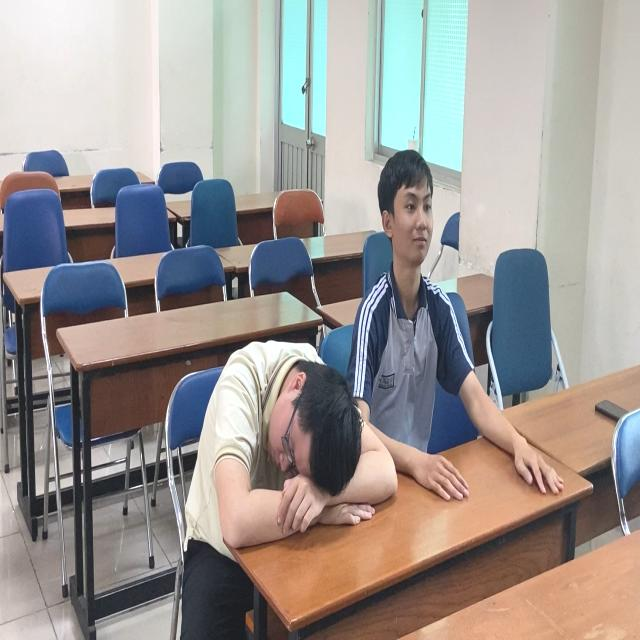sleep: (193, 335, 400, 572)
